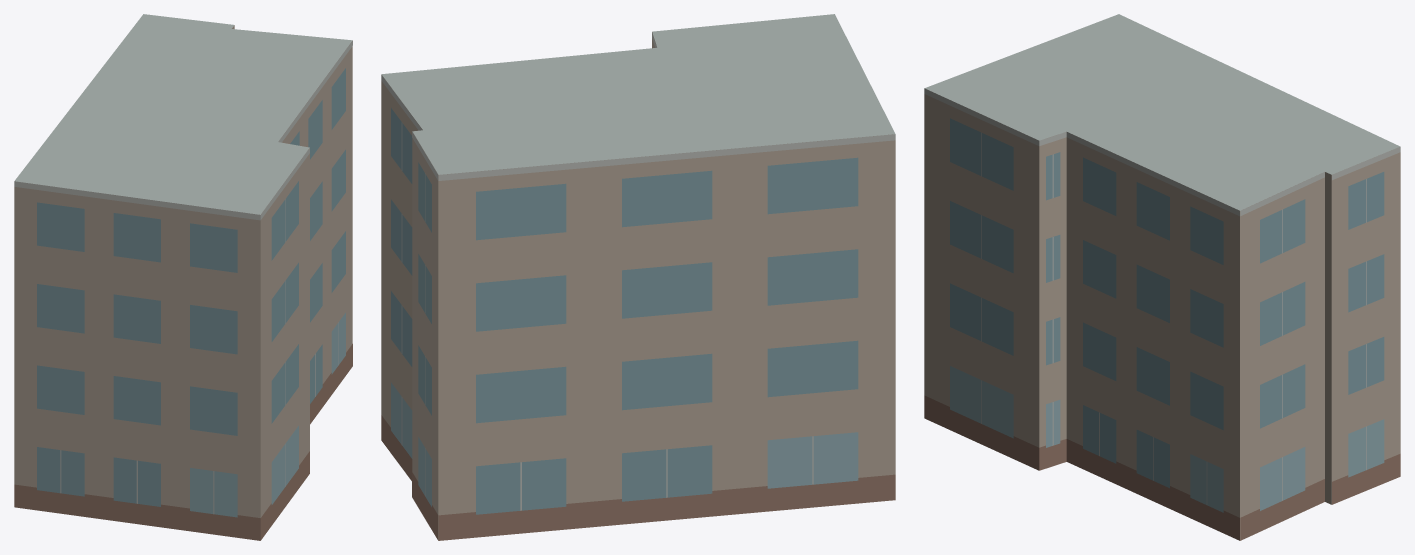
Rendered from survey-upis-32600215.glb.
The picture shows the model from 3 angles, left to right: view 1: azimuth 30°, elevation 25°; view 2: azimuth 150°, elevation 25°; view 3: azimuth 270°, elevation 25°; orthographic projection. The views are drawn at different scales.
Visible parts, largest first — view 1: survey-upis-32600215.tmp; view 2: survey-upis-32600215.tmp; view 3: survey-upis-32600215.tmp.
Boxes of the visible parts, <box> form: survey-upis-32600215.tmp: <box>14,14,352,540</box>; survey-upis-32600215.tmp: <box>381,14,895,540</box>; survey-upis-32600215.tmp: <box>924,14,1400,540</box>.
Size of the model in its own units: 18.36 by 14.35 by 18.76.
